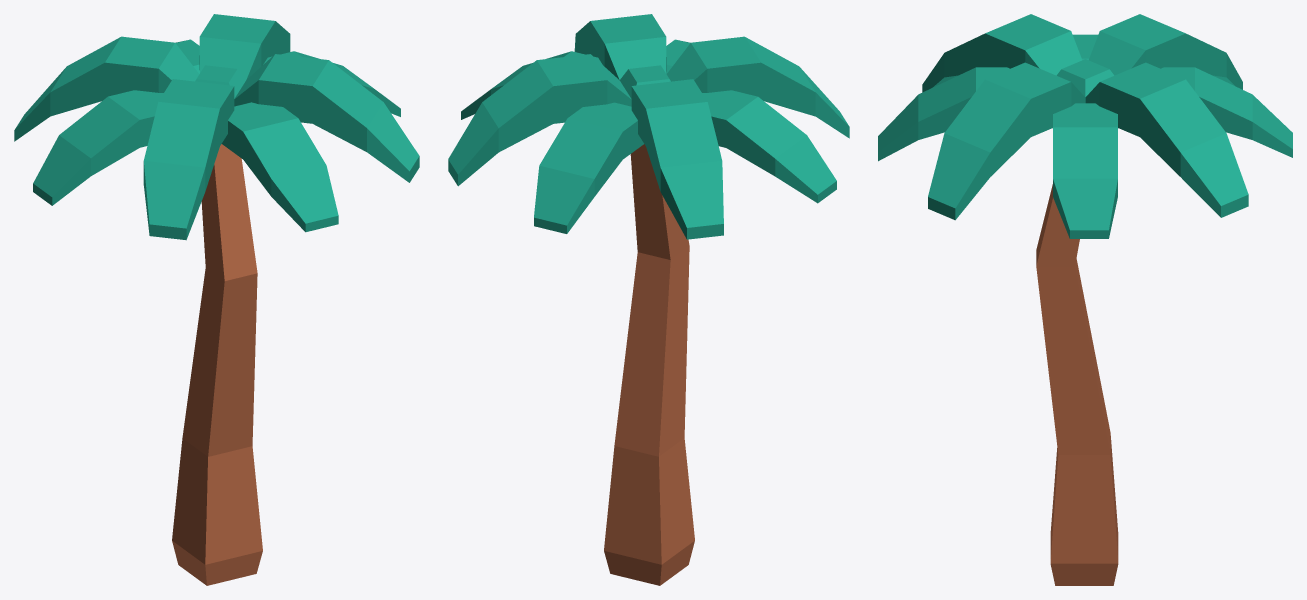
Rendered from tree-palm.glb.
3 renders of one model, left to right at view 1: azimuth 30°, elevation 25°; view 2: azimuth 150°, elevation 25°; view 3: azimuth 270°, elevation 25°, orthographic.
Bounding box in the file's own units: 1.31 × 1.8 × 1.31.
